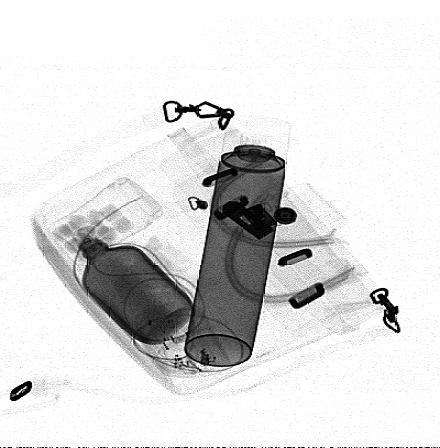Sprayer: (184, 116, 290, 366)
